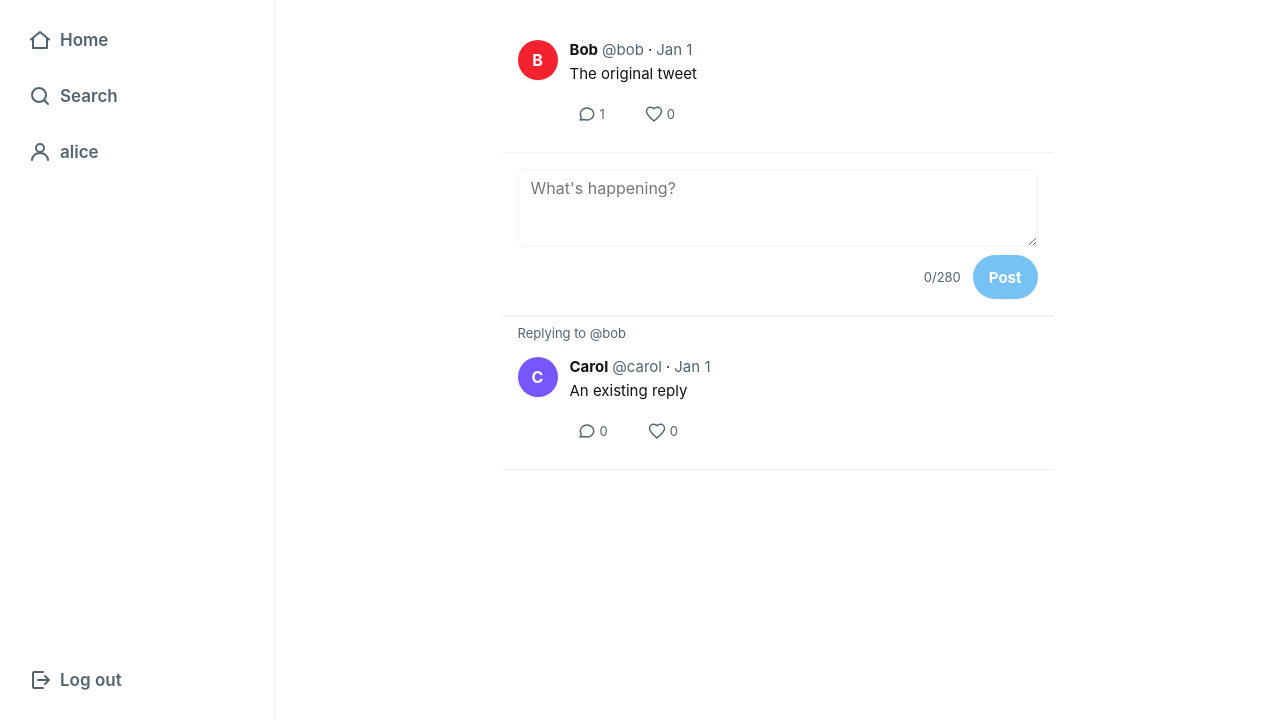
Test: tweet thread page › renders the ancestor chain, focused tweet and replies, and appends a posted reply
The width and height of the screenshot is (1280, 720).
Expected: the text "The original tweet" is shown, [570,64,697,83]
Expected: the text "An existing reply" is shown, [570,381,687,400]
Step 1. Type "My new reply" into the text box named "tweet content" → (778, 208), box [518,169,1038,247]
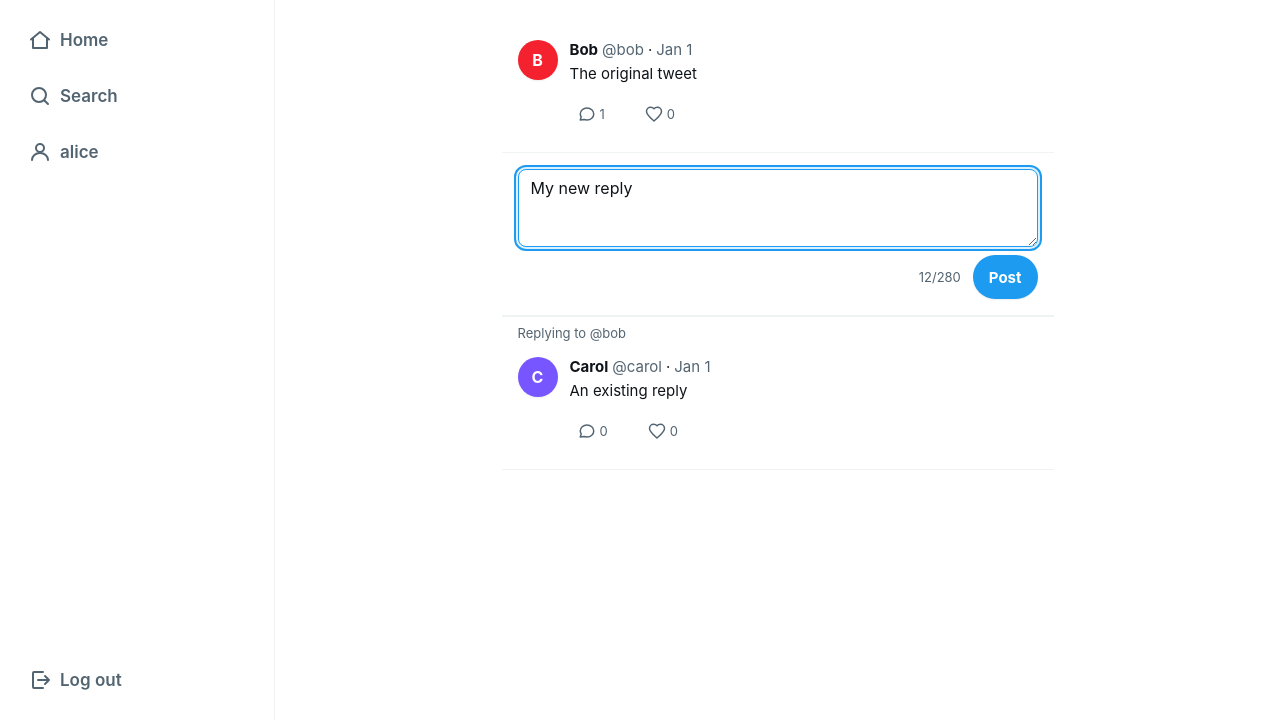
Step 2. Click the button "Post" → (1005, 277), box [973,255,1038,299]
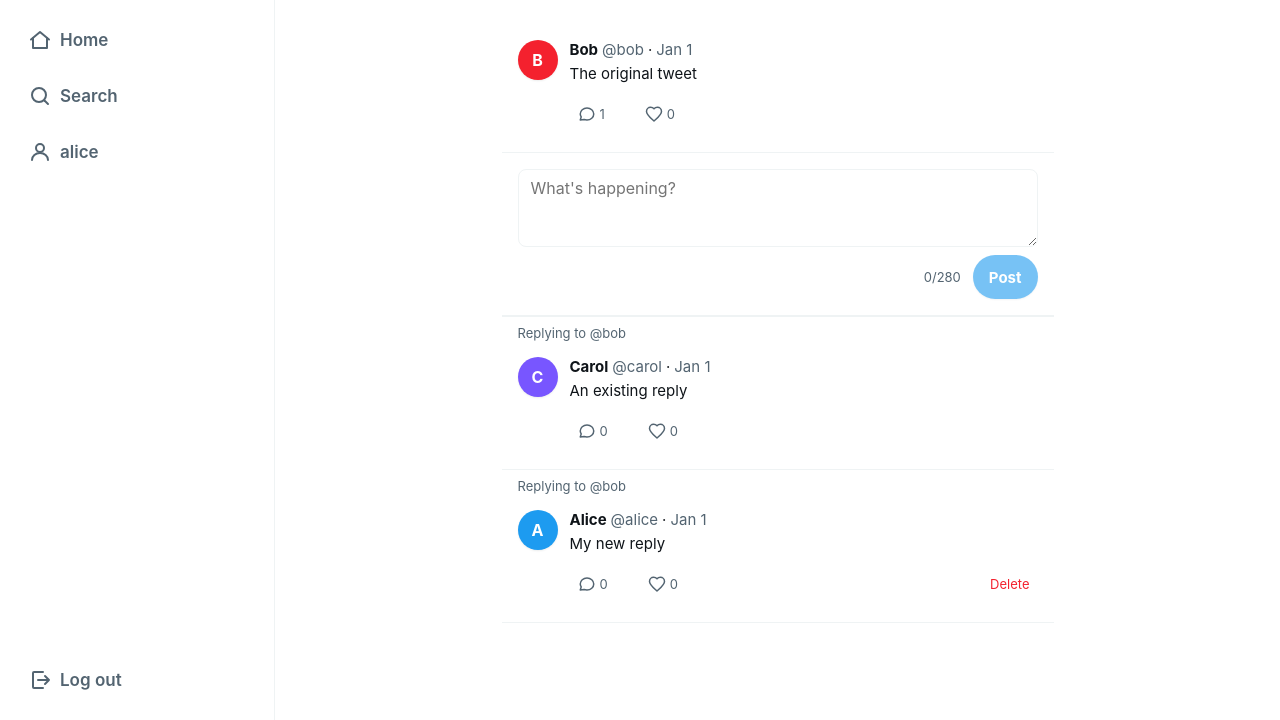
Expected: the text "My new reply" is shown, [570,534,665,553]
